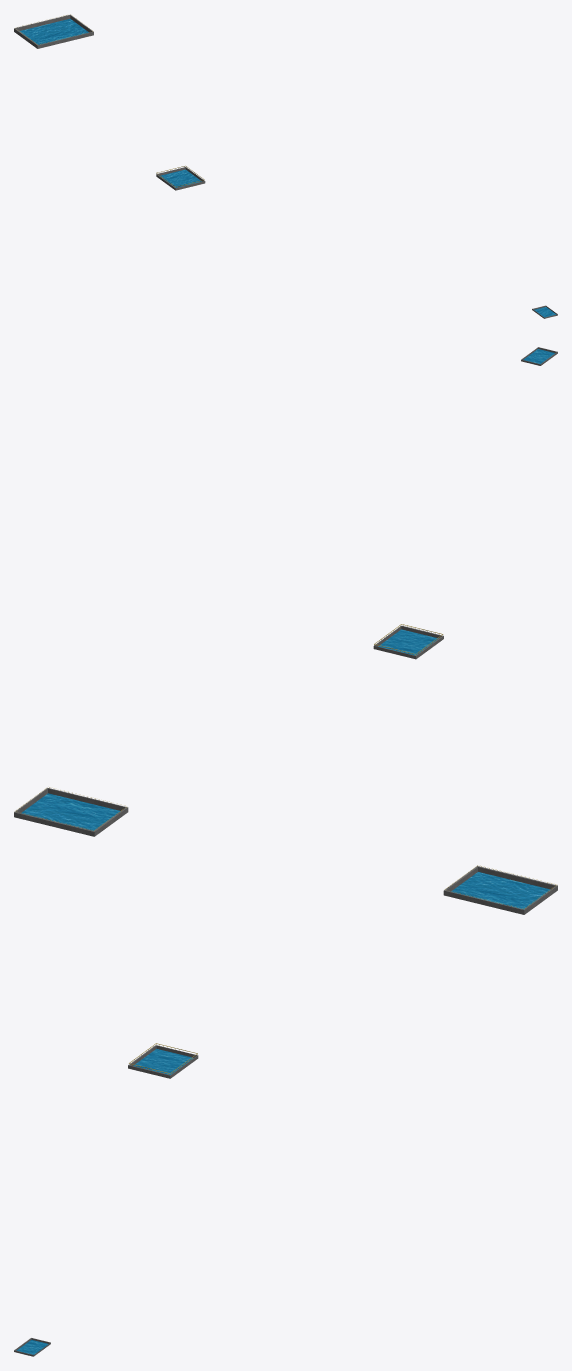
The picture shows the model from 3 angles, top to bottom: view 1: azimuth 30°, elevation 25°; view 2: azimuth 150°, elevation 25°; view 3: azimuth 330°, elevation 25°; orthographic projection. The views are drawn at different scales.
Parts seen in each view (by area): view 1: 水池02, 水池00; view 2: 水池02, 水池00; view 3: 水池02, 水池00.
Part boxes in pixels (x1=…): 水池02: x1=19, y1=18, x2=556, y2=317; 水池00: x1=14, y1=14, x2=557, y2=318; 水池02: x1=21, y1=349, x2=554, y2=830; 水池00: x1=14, y1=347, x2=557, y2=836; 水池02: x1=17, y1=872, x2=550, y2=1354; 水池00: x1=14, y1=866, x2=557, y2=1356.
Size of the model in its own units: 104 by 2.62 by 487.
3 materials, 3 textured.
